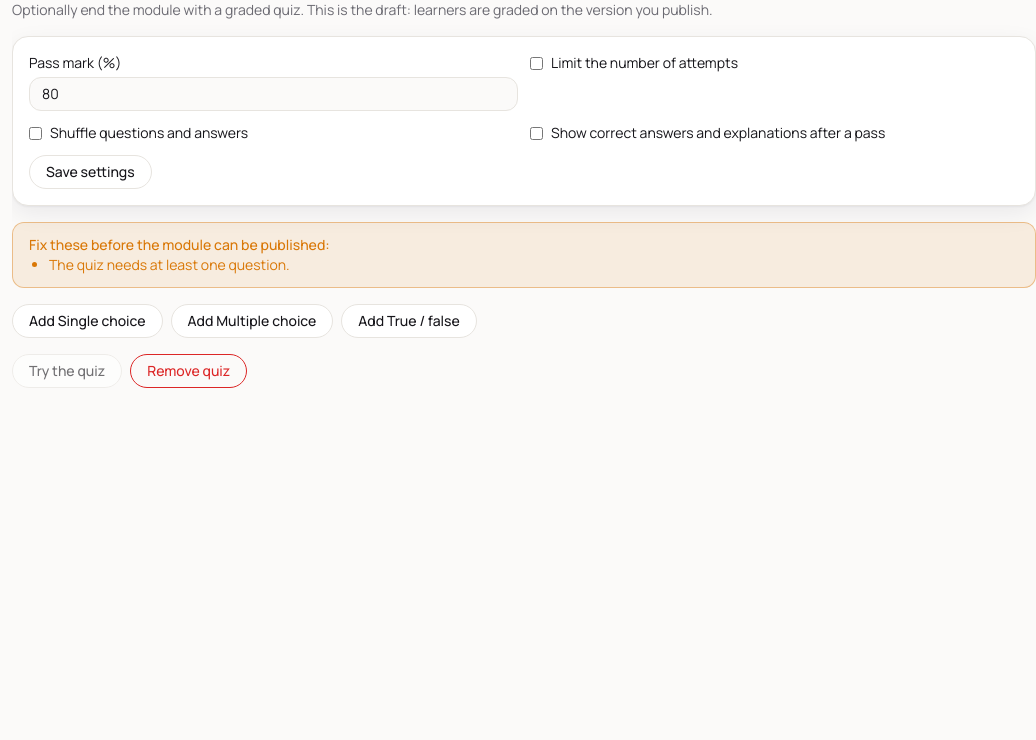
Scenario: ModuleQuizPanel › adds a single-choice question with its options and correct answer
The width and height of the screenshot is (1036, 740).
Click the button "Add Single choice" at (87, 321), box [12, 304, 162, 338]
(page scrolled)
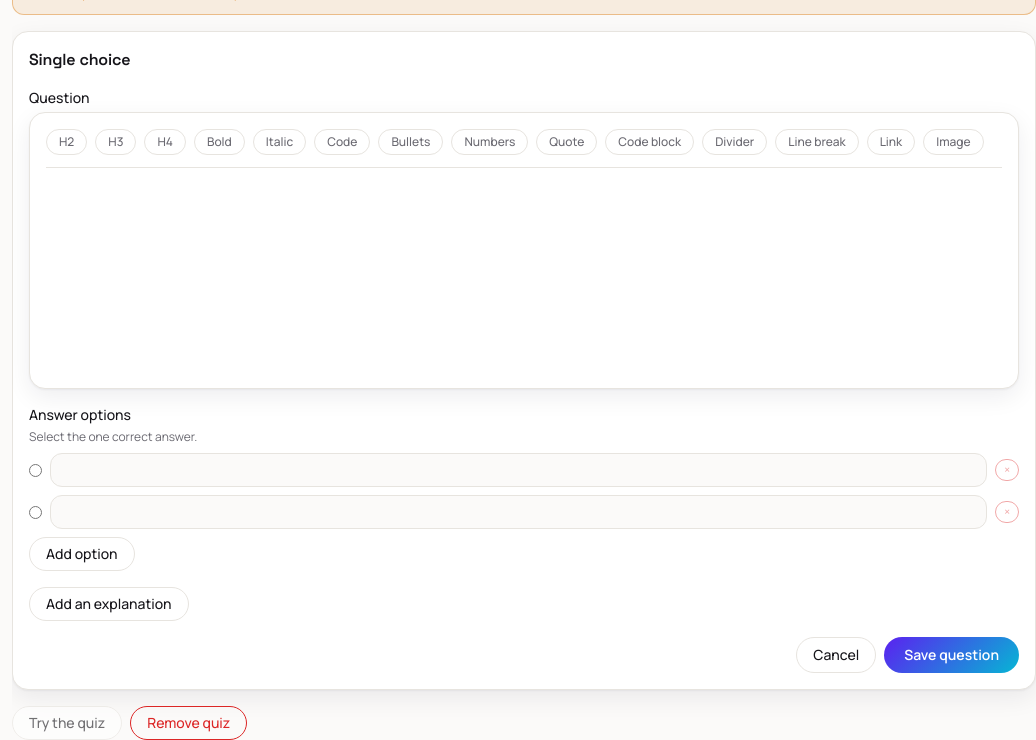
Type "A scam" into the field named "Option 1" at (519, 470), box [50, 453, 987, 487]
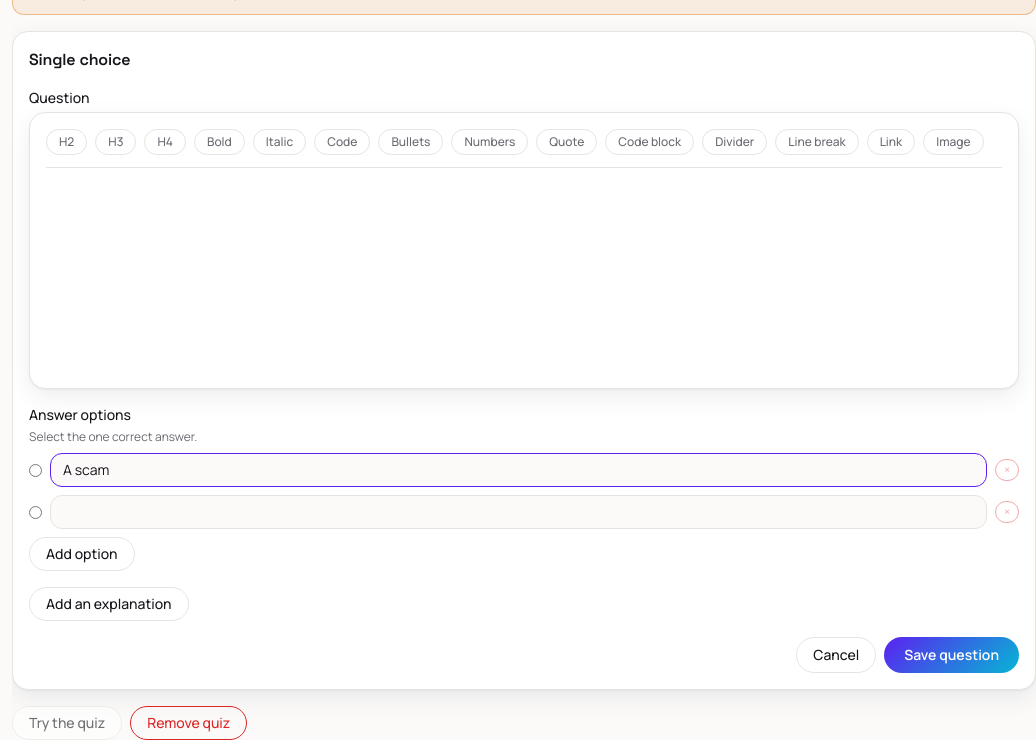
Type "A fish" into the field named "Option 2" at (519, 512), box [50, 495, 987, 529]
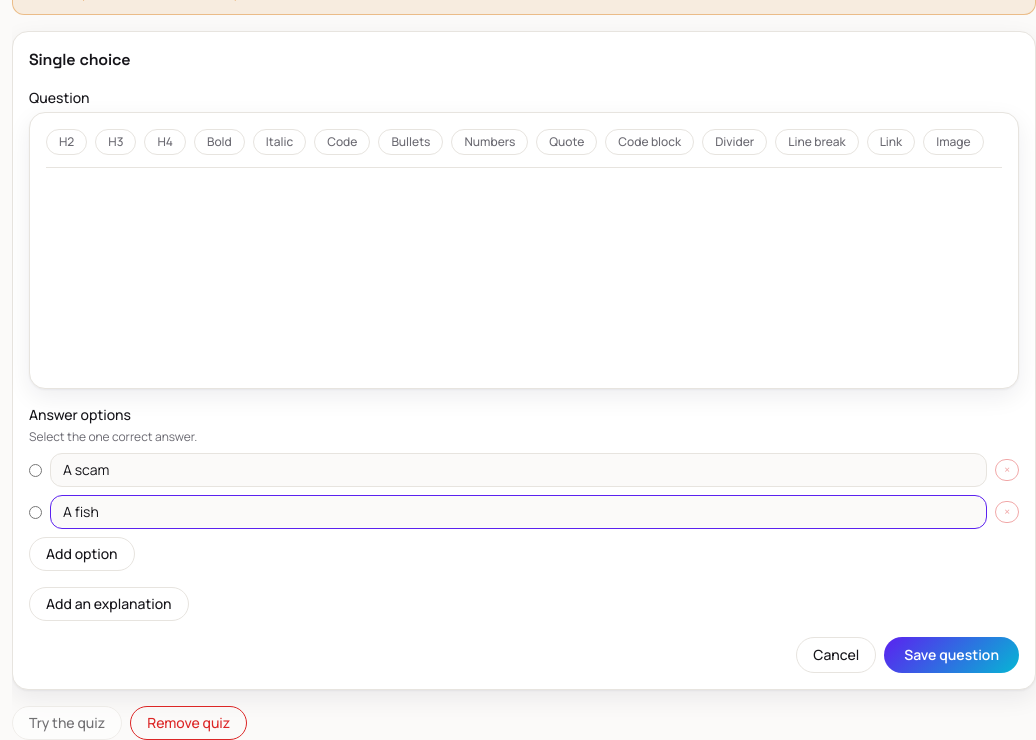
Click the radio button named "Option 1 is correct" at (36, 470), box [29, 464, 42, 476]
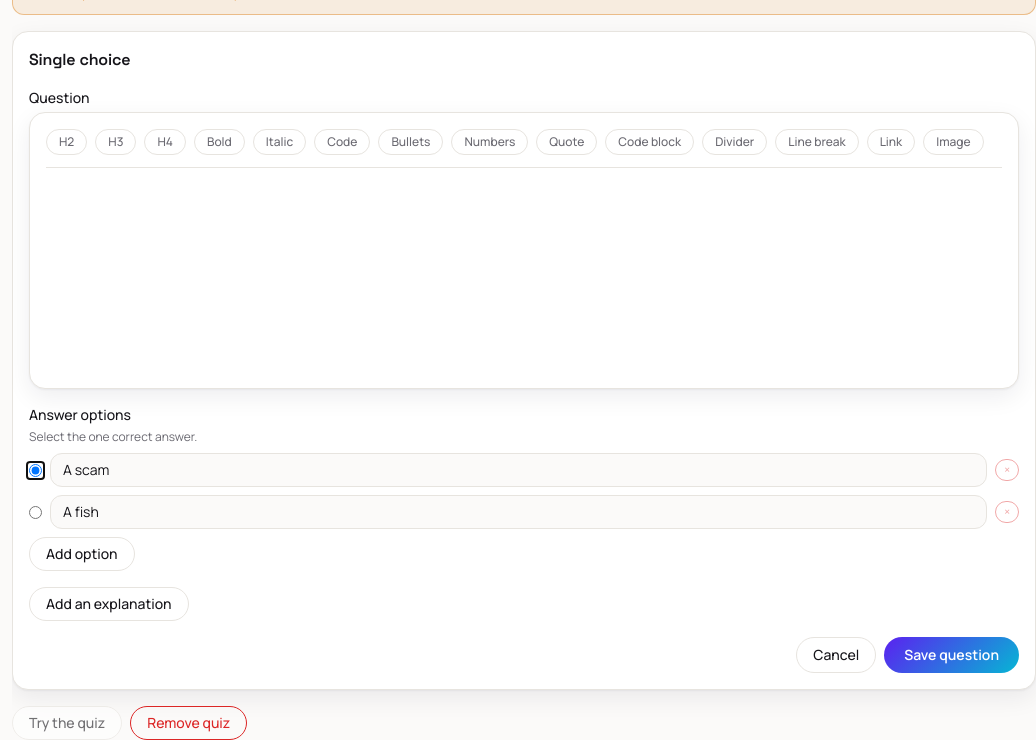
Click the button "Save question" at (952, 655), box [884, 637, 1019, 673]
(page scrolled)
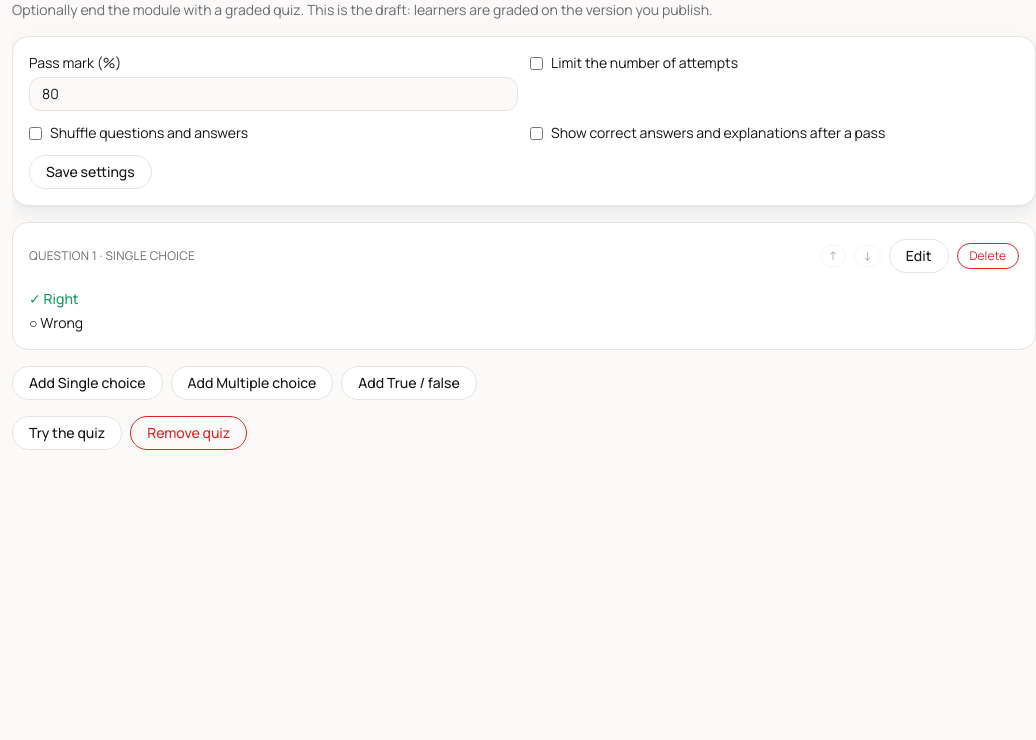
Expected: the text "Question 1 · Single choice" is shown, [29, 248, 195, 264]
